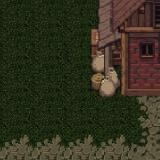Obstacle: (84, 0, 160, 132)
